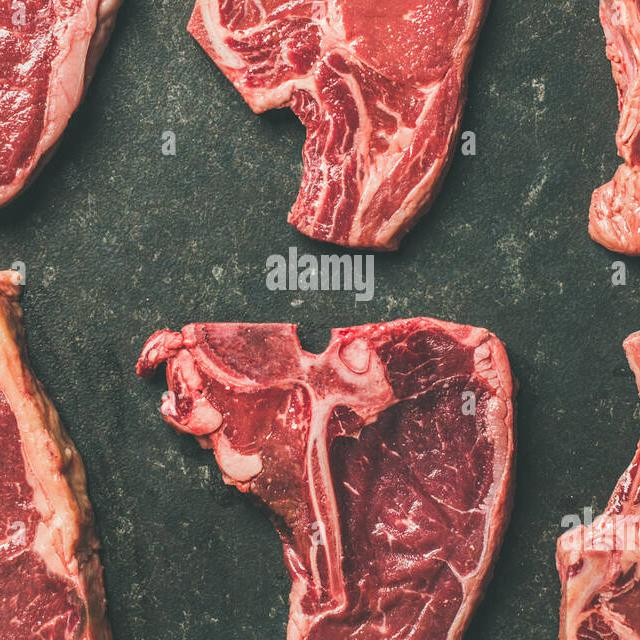beef: (143, 288, 527, 640), (175, 0, 517, 244), (0, 266, 129, 640), (0, 0, 157, 238)
